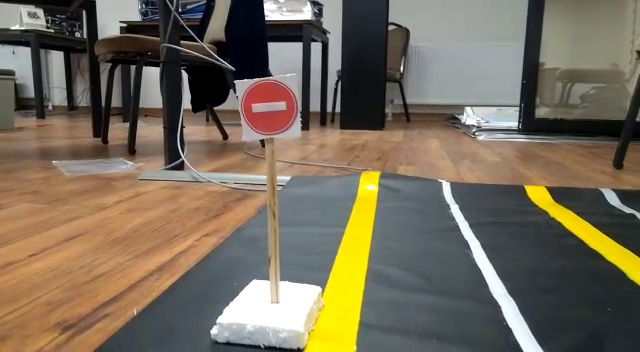girisi_olmayan_yol: (235, 72, 301, 138)
